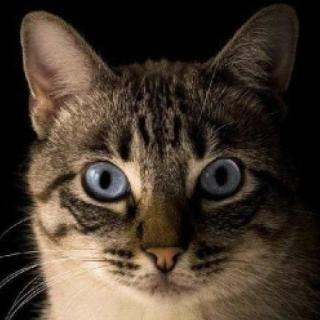cat: (16, 7, 299, 304)
nose: (137, 212, 190, 280)
